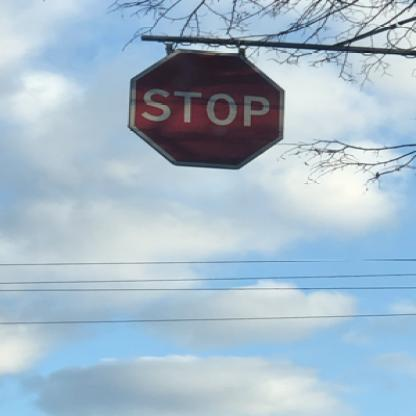Stop: (128, 50, 282, 170)
